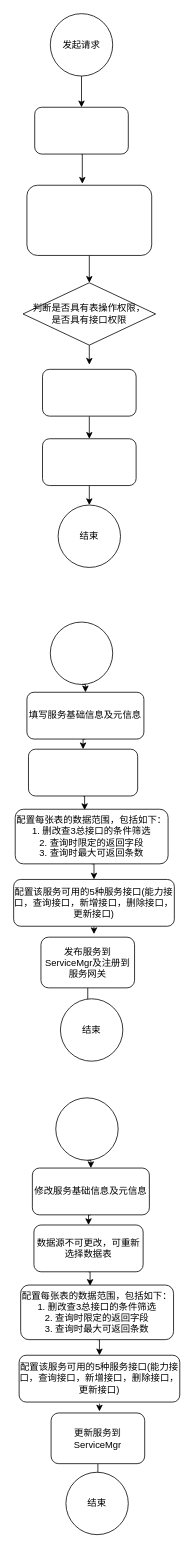
Some shapes in this 193 by 1548 pixel diagram are drawn without their labels. Here are the shapes that lost their labels. From the top down, the centre of each, then its label:
At point 81,130: "API入口 - GraphQL或者Rest方式".
At point 89,219: "更具路径解析出请求接口(GetCapabilities, create, search, delete, update)及参数（APIJSON请求体）".
At point 89,392: "解析APIJSON请求体，添加限定条件及返回字段".
At point 89,462: "取得执行结果并返回".
At point 81,652: "发布服务".
At point 83,772: "选择数据源，选择数据表".
At point 86,1128: "编辑服务".
